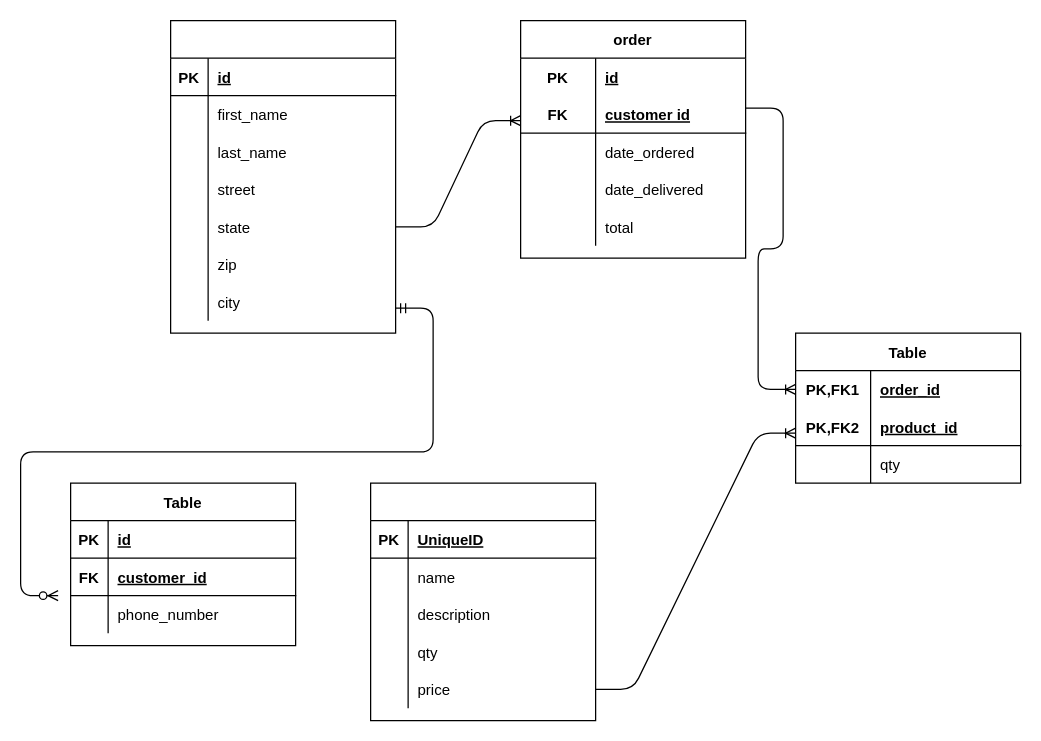
This 1041x741 diagram has some shape labels left out. The box of each missing label's shape, as (x1, y1, x2, y2) in pixels:
customer: (169, 19, 396, 333)
product: (369, 482, 596, 721)
